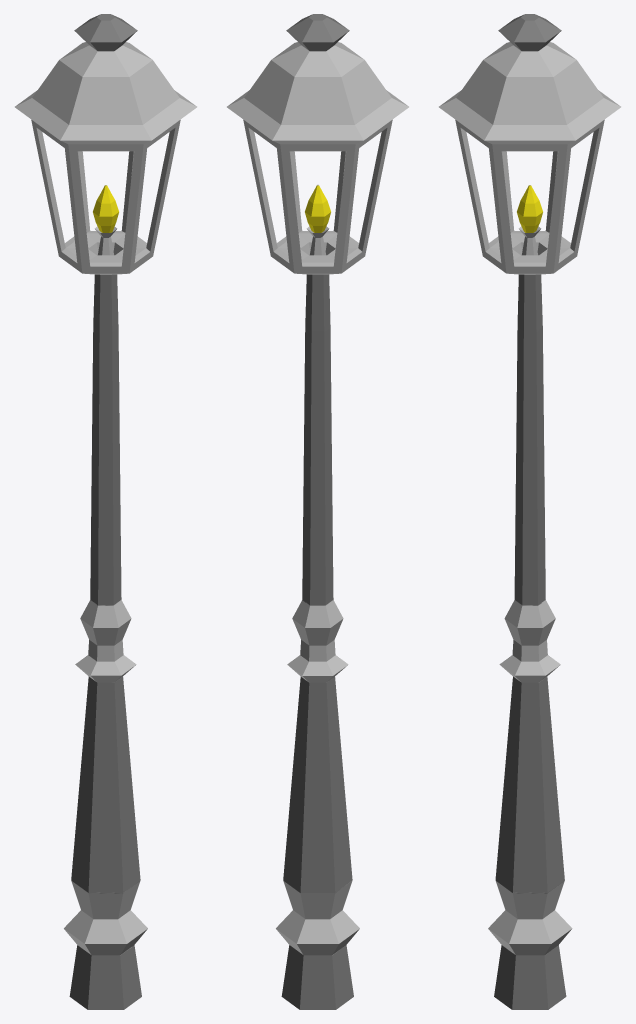
The model's file is lamp.fbx.
The picture shows the model from 3 angles, left to right: view 1: azimuth 30°, elevation 25°; view 2: azimuth 150°, elevation 25°; view 3: azimuth 270°, elevation 25°; orthographic projection.
Parts seen in each view (by area): view 1: lamp; view 2: lamp; view 3: lamp.
Boxes of the visible parts, x1,y1,x2,y2 form: lamp: [15, 14, 196, 1009]; lamp: [227, 14, 408, 1009]; lamp: [439, 14, 620, 1009].
Size of the model in its own units: 99.67 by 679 by 115.
1 material, 1 textured.
